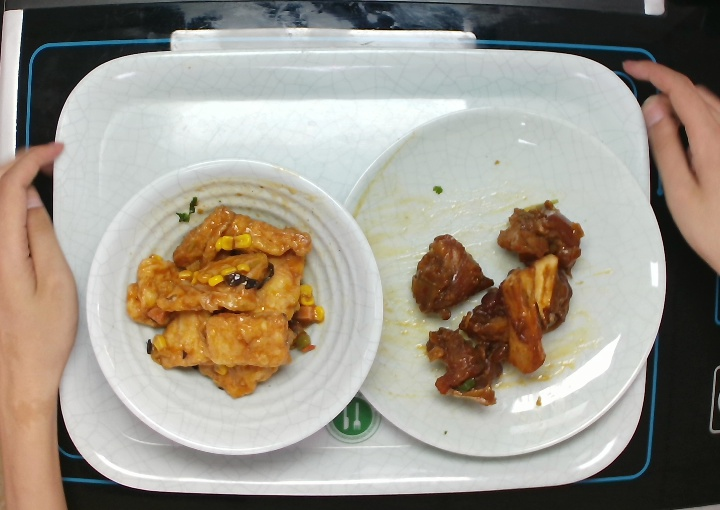JYsf-Da_Yuan_Pan: (338, 101, 670, 462)
JYsf-Xiao_Tang_Wan: (81, 153, 389, 458)
